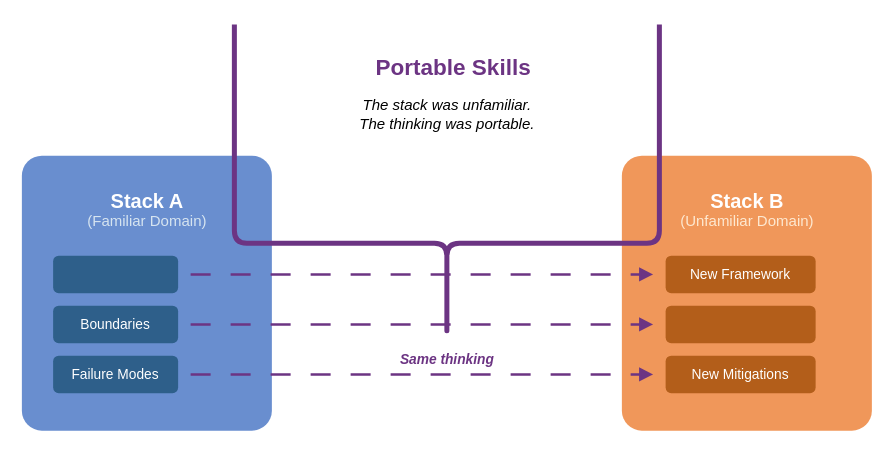
The diagram is 893 pixels wide and 451 high, and some of its shapes have lost their labels. Here are the shapes that lost their labels. From the top down, the centre of each, then its label:
At pixel 115 273: "Contracts".
At pixel 740 323: "New Protocol".
